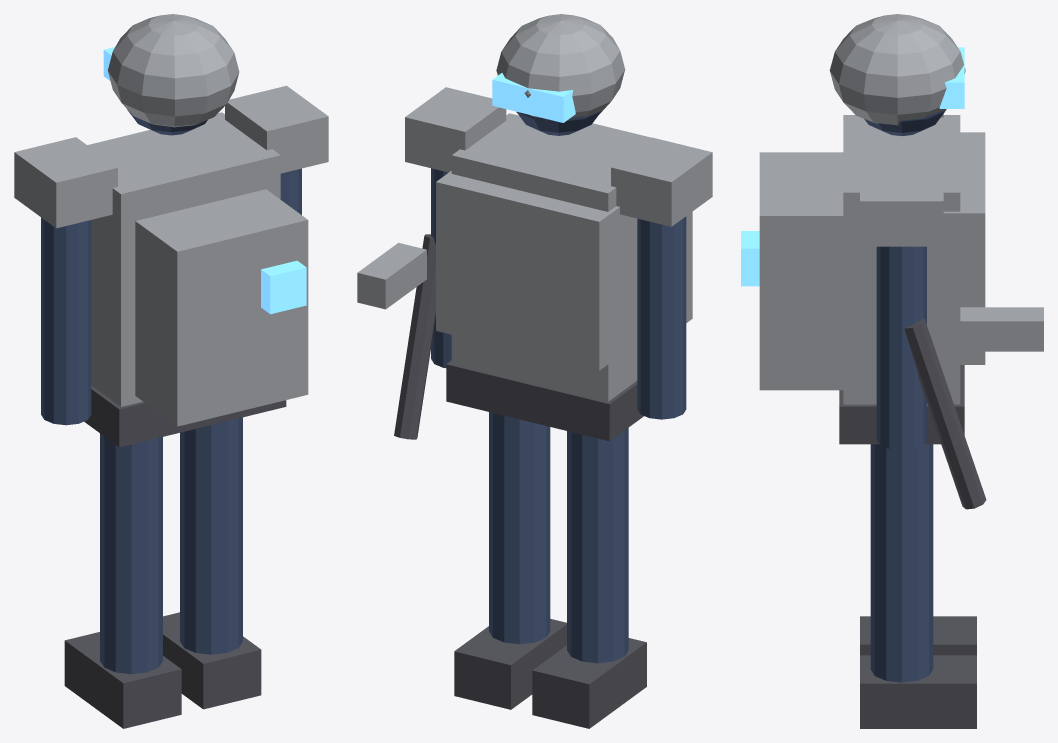
Rendered from us_worker.glb.
3 renders of one model, left to right at view 1: azimuth 30°, elevation 25°; view 2: azimuth 150°, elevation 25°; view 3: azimuth 270°, elevation 25°, orthographic. The views are drawn at different scales.
Parts seen in each view (by area): view 1: Worker_Pack, Worker_Torso, Worker_LegL, Worker_LegR, Worker_Helmet, Worker_ArmL, Worker_PadL, Worker_BootL, Worker_PadR, Worker_BootR, Worker_Belt, Worker_PackLight (+2 smaller); view 2: Worker_Chest, Worker_Torso, Worker_LegL, Worker_LegR, Worker_ArmL, Worker_Helmet, Worker_Belt, Worker_PadL, Worker_BootL, Worker_BootR, Worker_PadR, Worker_ToolHandle (+5 smaller); view 3: Worker_Pack, Worker_Torso, Worker_LegR, Worker_Helmet, Worker_ArmR, Worker_Chest, Worker_BootR, Worker_PadR, Worker_ToolHandle, Worker_ToolHead, Worker_Belt, Worker_BootL (+3 smaller).
Boxes of the visible parts, left/top/right/bottom form: Worker_Pack: left=135, top=189, right=308, bottom=426; Worker_Torso: left=87, top=112, right=280, bottom=406; Worker_LegL: left=100, top=433, right=162, bottom=674; Worker_LegR: left=180, top=417, right=242, bottom=654; Worker_Helmet: left=108, top=14, right=239, bottom=127; Worker_ArmL: left=41, top=217, right=91, bottom=425; Worker_PadL: left=14, top=137, right=117, bottom=228; Worker_BootL: left=64, top=632, right=181, bottom=728; Worker_PadR: left=225, top=85, right=328, bottom=173; Worker_BootR: left=163, top=612, right=261, bottom=709; Worker_Belt: left=84, top=385, right=286, bottom=447; Worker_PackLight: left=261, top=260, right=306, bottom=314; Worker_Chest: left=436, top=171, right=619, bottom=370; Worker_Torso: left=451, top=113, right=640, bottom=401; Worker_LegL: left=567, top=428, right=628, bottom=663; Worker_LegR: left=489, top=412, right=550, bottom=644; Worker_ArmL: left=637, top=216, right=686, bottom=419; Worker_Helmet: left=496, top=14, right=625, bottom=118; Worker_Belt: left=446, top=360, right=643, bottom=441; Worker_PadL: left=611, top=137, right=712, bottom=226; Worker_BootL: left=532, top=638, right=646, bottom=728; Worker_BootR: left=454, top=619, right=566, bottom=709; Worker_PadR: left=405, top=87, right=506, bottom=172; Worker_ToolHandle: left=394, top=234, right=435, bottom=439; Worker_Pack: left=759, top=152, right=843, bottom=390; Worker_Torso: left=843, top=115, right=960, bottom=404; Worker_LegR: left=870, top=444, right=933, bottom=682; Worker_Helmet: left=829, top=14, right=965, bottom=125; Worker_ArmR: left=876, top=246, right=926, bottom=450; Worker_Chest: left=943, top=132, right=985, bottom=364; Worker_BootR: left=860, top=655, right=976, bottom=728; Worker_PadR: left=860, top=171, right=943, bottom=246; Worker_ToolHandle: left=904, top=318, right=986, bottom=509; Worker_ToolHead: left=960, top=307, right=1043, bottom=351; Worker_Belt: left=839, top=365, right=964, bottom=444; Worker_BootL: left=860, top=616, right=976, bottom=655.
Size of the model in its own units: 0.75 by 1.78 by 0.725.
